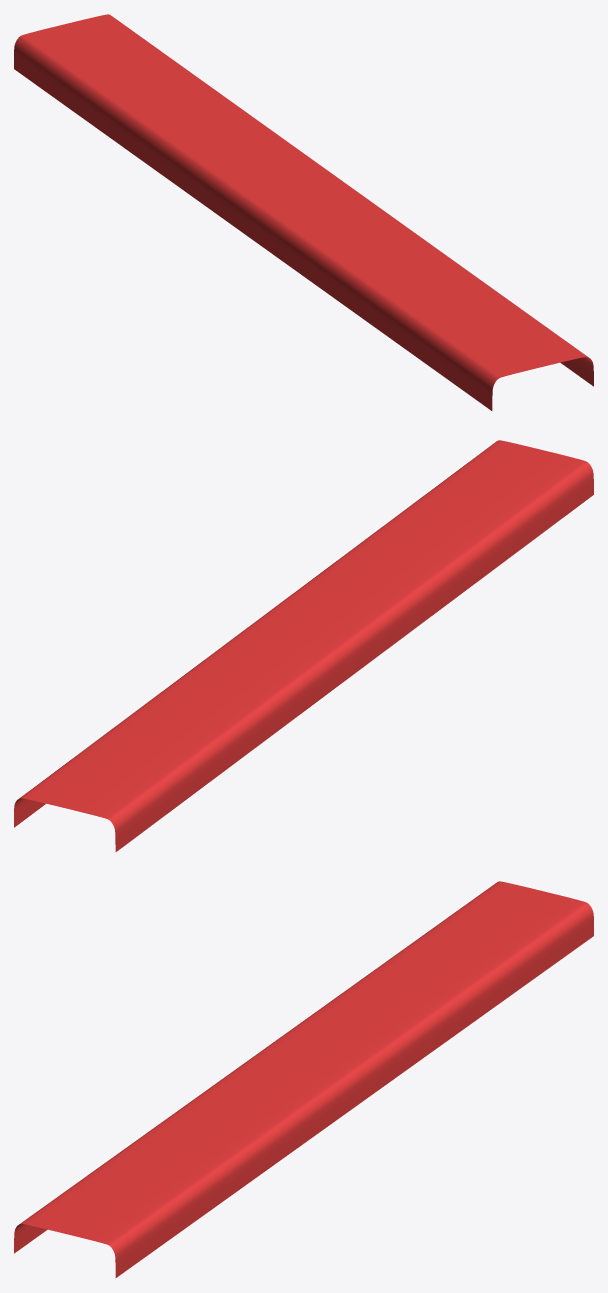
File: TuboRectoRojo.fbx
The picture shows the model from 3 angles, top to bottom: view 1: azimuth 30°, elevation 25°; view 2: azimuth 150°, elevation 25°; view 3: azimuth 330°, elevation 25°; orthographic projection.
Parts seen in each view (by area): view 1: TuboRectoRojo; view 2: TuboRectoRojo; view 3: TuboRectoRojo.
Part boxes in pixels (left/top/right/bottom): TuboRectoRojo: left=14, top=14, right=593, bottom=410; TuboRectoRojo: left=14, top=440, right=593, bottom=851; TuboRectoRojo: left=14, top=881, right=593, bottom=1277.
Bounding box in the file's own units: 0.4432 × 0.167 × 3.62.
